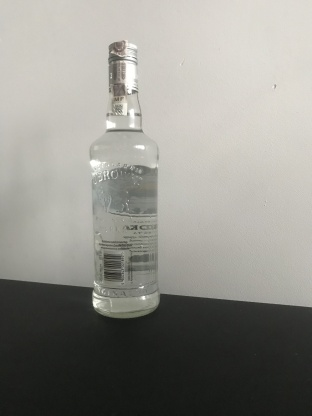nakretka: (106, 37, 140, 93)
